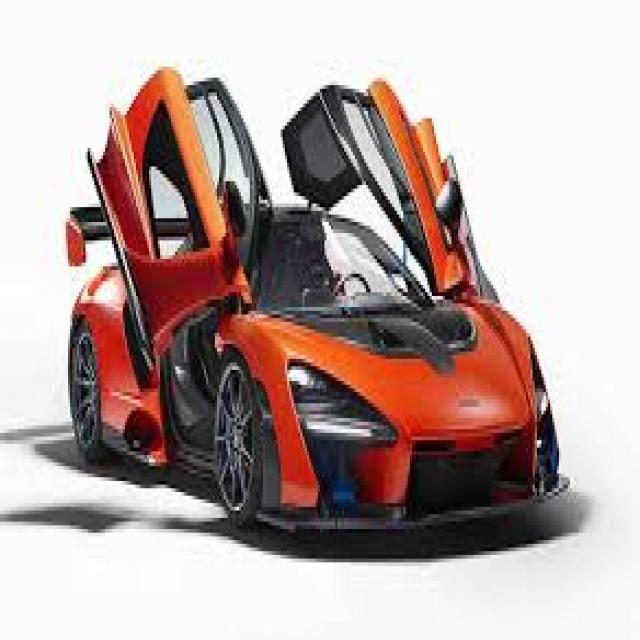Car: (66, 63, 568, 556)
